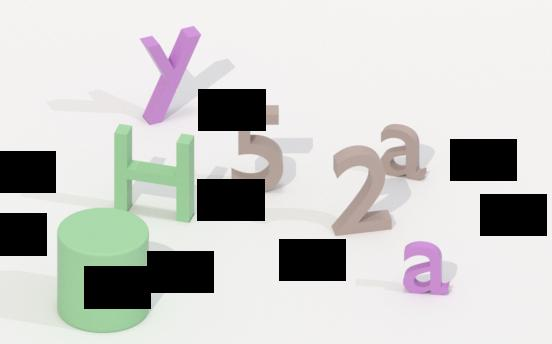2: (324, 139, 400, 243)
H-hoa: (109, 117, 201, 226)
Y: (138, 21, 204, 126)
a: (382, 118, 428, 187), (403, 237, 453, 298)
b: (228, 97, 285, 199)
tru: (56, 206, 150, 337)
